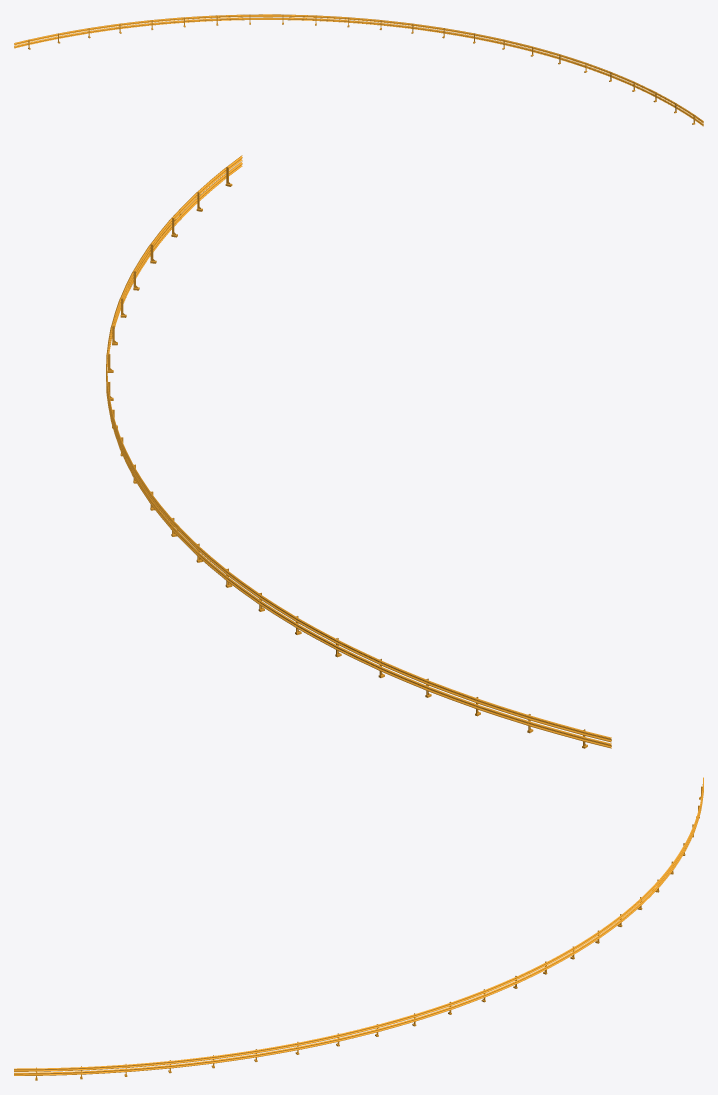
Rendered from SM_Fence_Road_WBeam_Double_Color_60m_Corner_Outer.fbx.
3 views of the same model, one above another, from view 1: azimuth 30°, elevation 25°; view 2: azimuth 150°, elevation 25°; view 3: azimuth 270°, elevation 25° (orthographic). The views are drawn at different scales.
Visible parts, largest first — view 1: SM_Fence_Road_WBeam_Double_Color_60m_Corner_Outer; view 2: SM_Fence_Road_WBeam_Double_Color_60m_Corner_Outer; view 3: SM_Fence_Road_WBeam_Double_Color_60m_Corner_Outer.
Part boxes in pixels (x1,y1,x2,y2): SM_Fence_Road_WBeam_Double_Color_60m_Corner_Outer: (14,14,703,126); SM_Fence_Road_WBeam_Double_Color_60m_Corner_Outer: (106,155,611,748); SM_Fence_Road_WBeam_Double_Color_60m_Corner_Outer: (14,777,703,1080).
Size of the model in its own units: 60.45 by 1.2 by 60.45.
